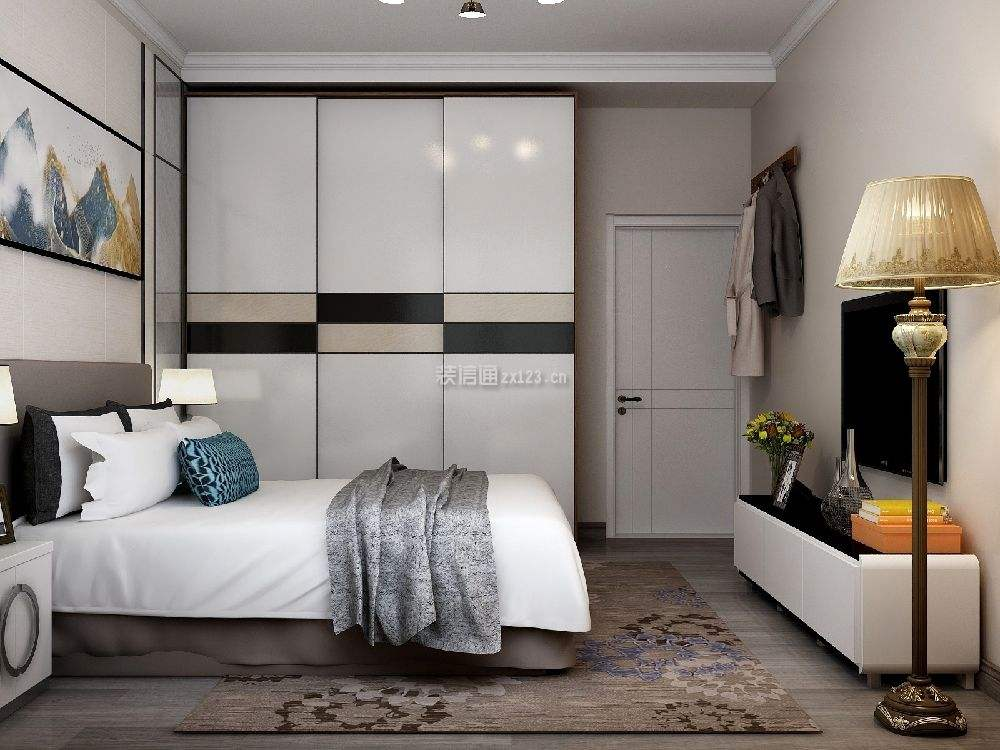床: (12, 470, 632, 678)
枕头: (48, 403, 268, 519)
灯: (851, 170, 988, 389), (149, 364, 215, 420)
